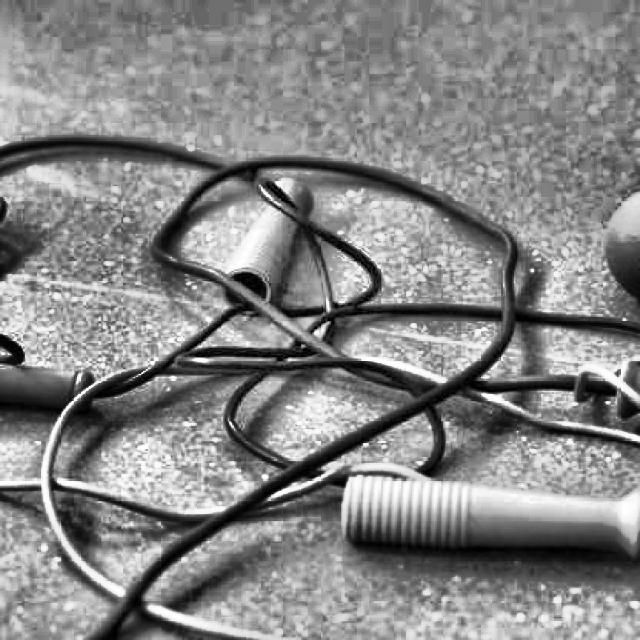Cable: (0, 135, 640, 640)
